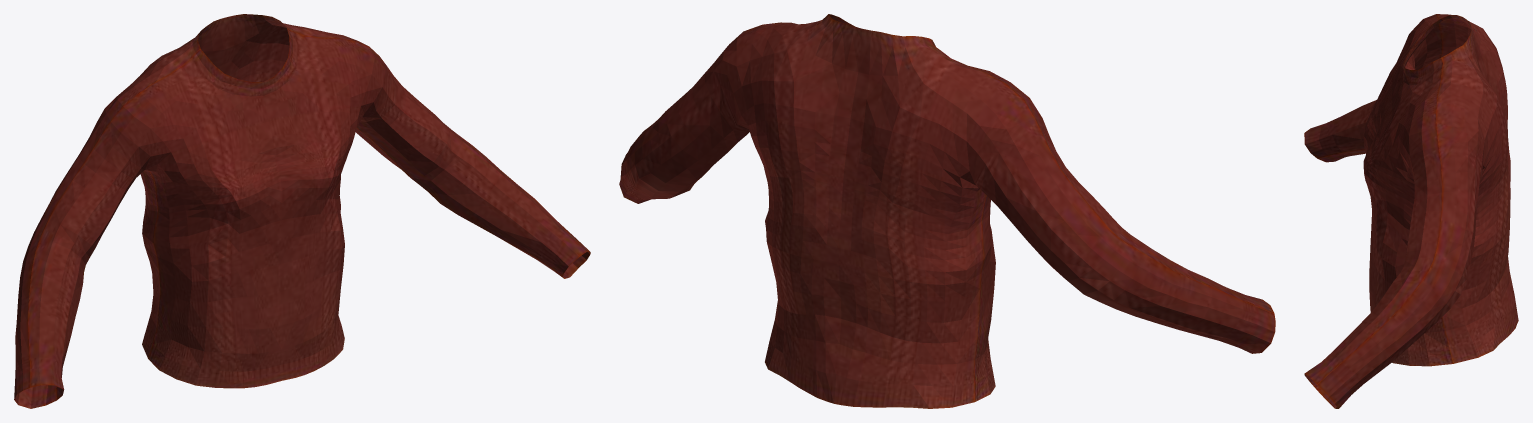
The model's file is mhw_mindfront_knitted_sweater_02.glb.
3 views of the same model, side by side, from view 1: azimuth 30°, elevation 25°; view 2: azimuth 150°, elevation 25°; view 3: azimuth 270°, elevation 25° (orthographic). The views are drawn at different scales.
Visible parts, largest first — view 1: mhw_mindfront_knitted_sweater_02; view 2: mhw_mindfront_knitted_sweater_02; view 3: mhw_mindfront_knitted_sweater_02.
Boxes of the visible parts, x1=… form: mhw_mindfront_knitted_sweater_02: x1=14, y1=14, x2=590, y2=408; mhw_mindfront_knitted_sweater_02: x1=619, y1=14, x2=1275, y2=408; mhw_mindfront_knitted_sweater_02: x1=1304, y1=14, x2=1518, y2=408.
Size of the model in its own units: 1.13 by 0.6143 by 0.3901.
Materials: 1 (1 with a texture image).
